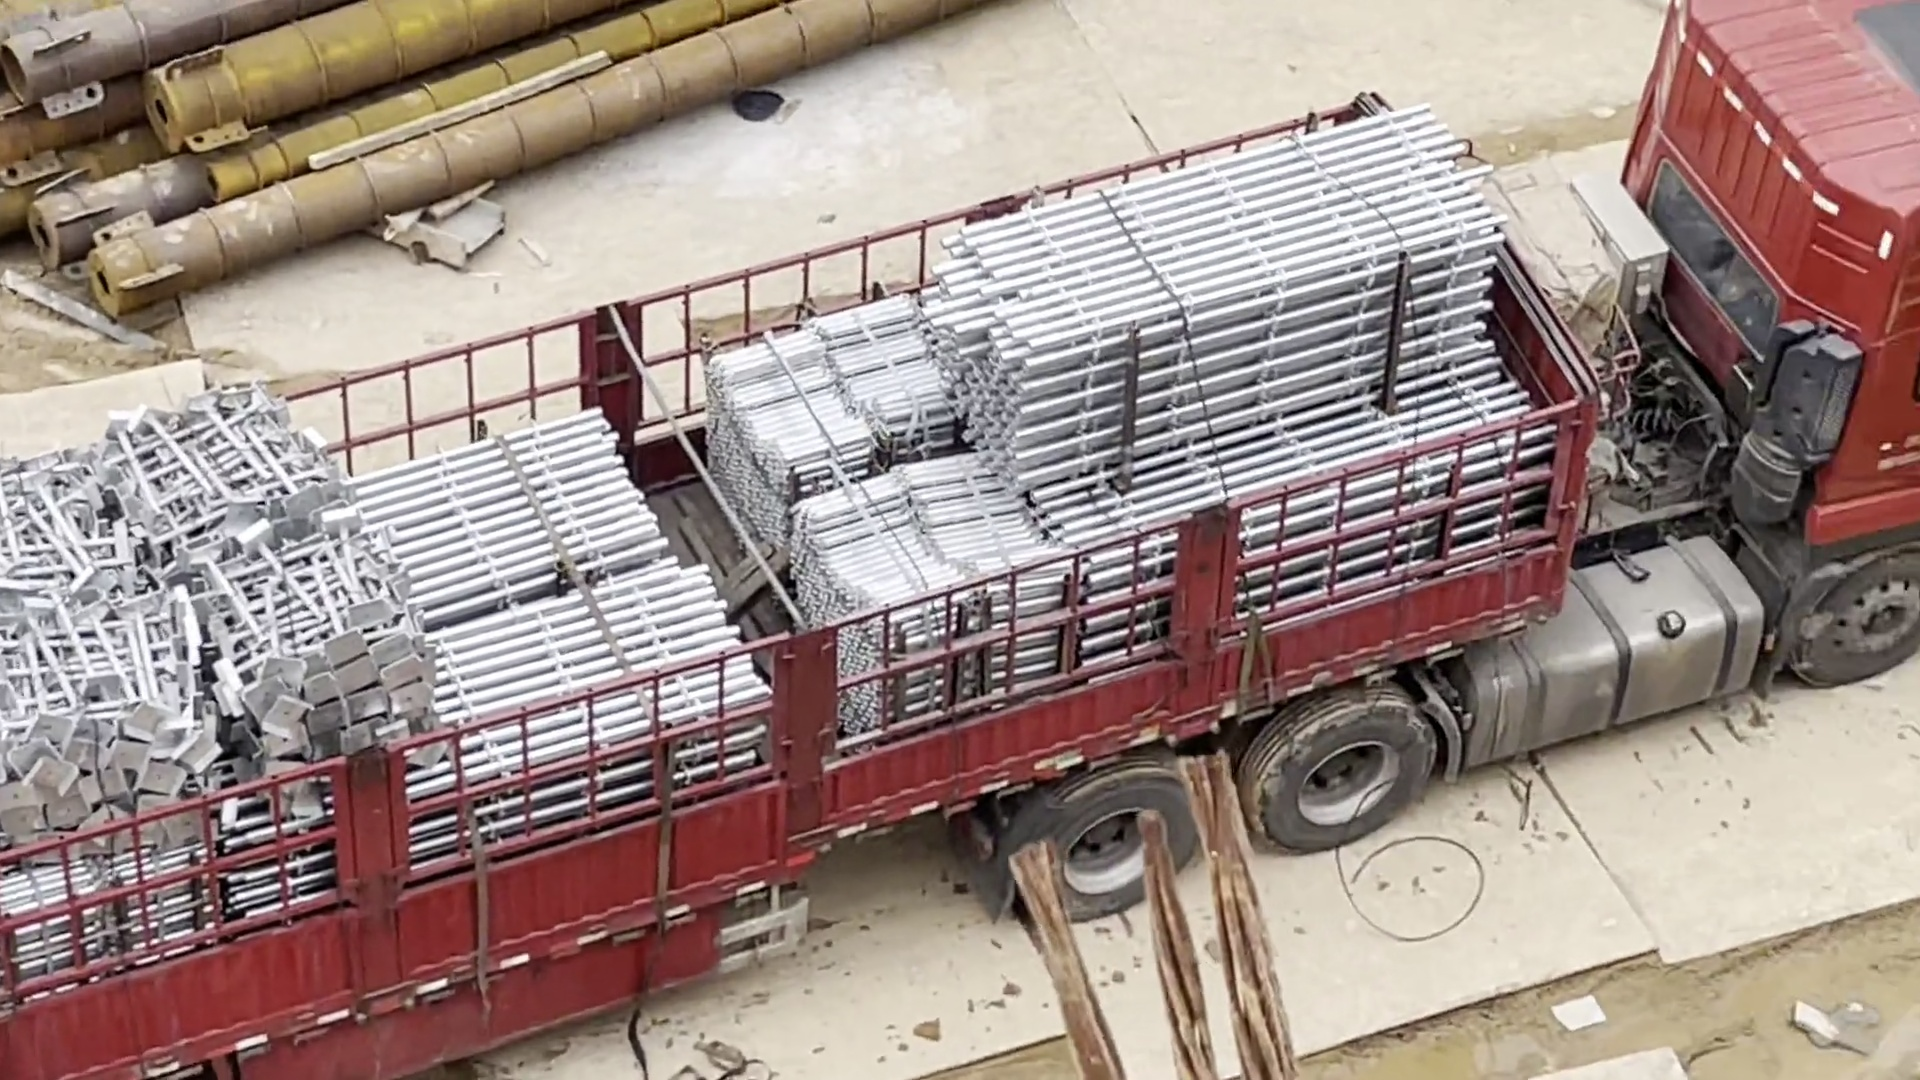scaffold: (938, 108, 1549, 680), (369, 400, 764, 858), (702, 290, 1031, 735)
